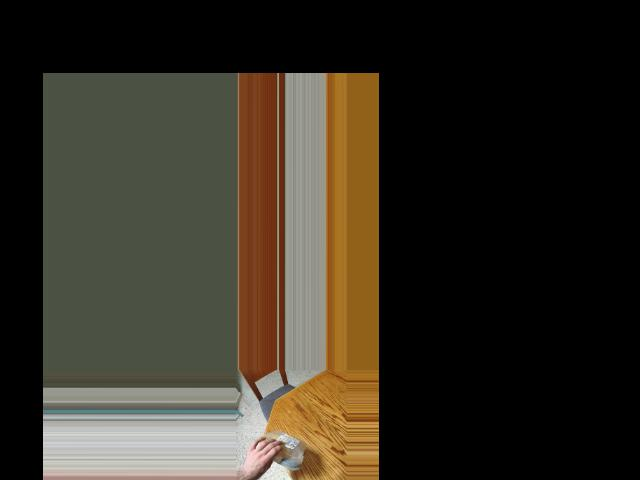cheese: (262, 436, 303, 465)
